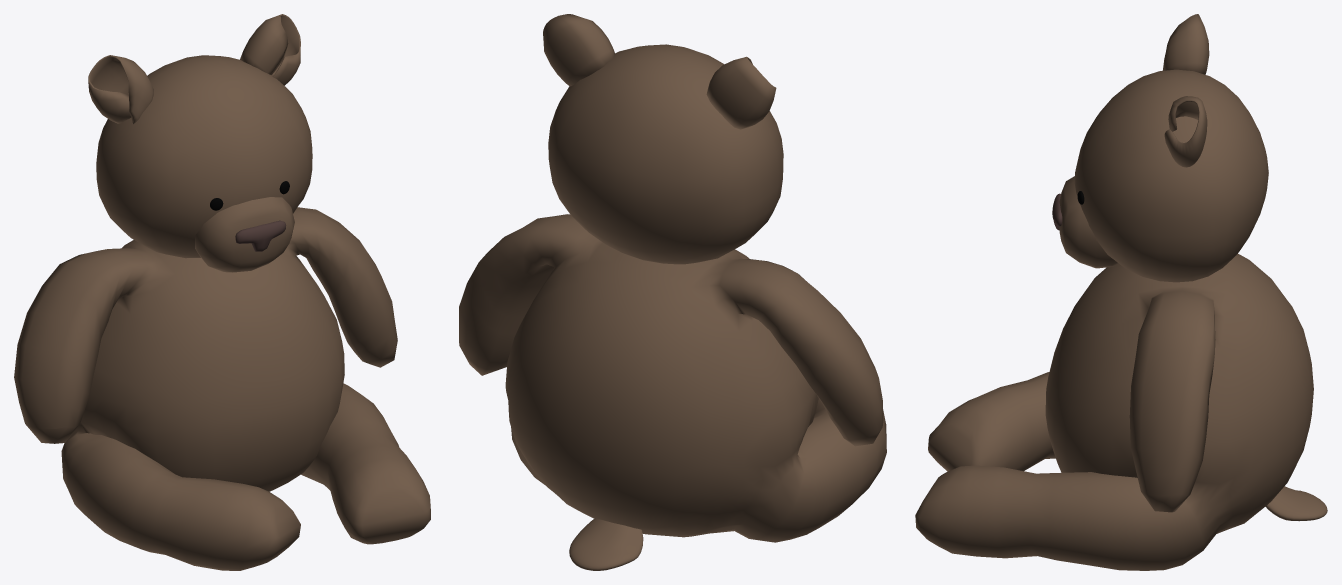
Rendered from мишка.glb.
3 views of the same model, side by side, from view 1: azimuth 30°, elevation 25°; view 2: azimuth 150°, elevation 25°; view 3: azimuth 270°, elevation 25° (orthographic). The views are drawn at different scales.
Parts seen in each view (by area): view 1: Bear doll, Bear nose; view 2: Bear doll; view 3: Bear doll.
Boxes of the visible parts, x1,y1,x2,y2 form: Bear doll: (14,14,430,570); Bear nose: (235,220,286,251); Bear doll: (459,14,886,570); Bear doll: (915,14,1327,570).
Bounding box in the file's own units: 0.679 × 0.7745 × 0.627.
